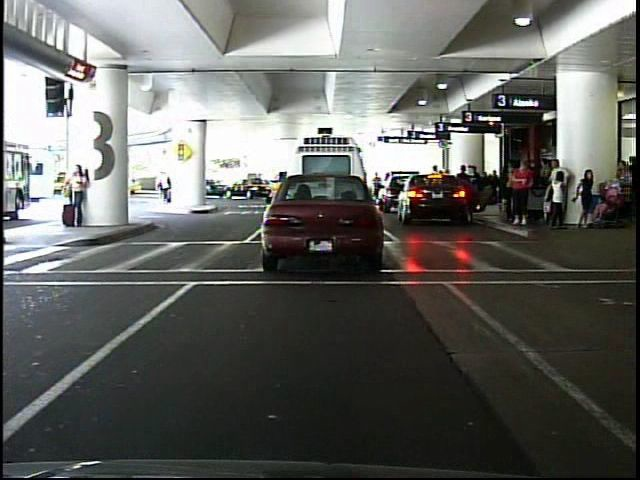person: (69, 160, 93, 229), (513, 157, 536, 229), (150, 163, 177, 206)
